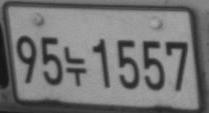1: (89, 37, 114, 88)
5: (116, 39, 140, 89), (141, 40, 165, 90), (40, 36, 63, 85)
7: (165, 40, 189, 91)
9: (15, 34, 37, 83)
누: (64, 45, 87, 86)
